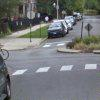Crosswalk: (15, 55, 100, 86)
